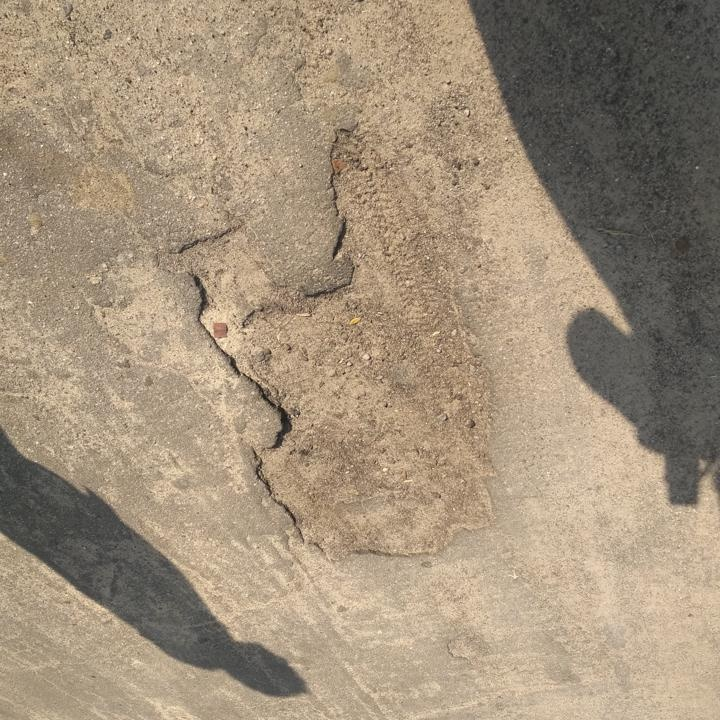pothole: (154, 124, 504, 569)
